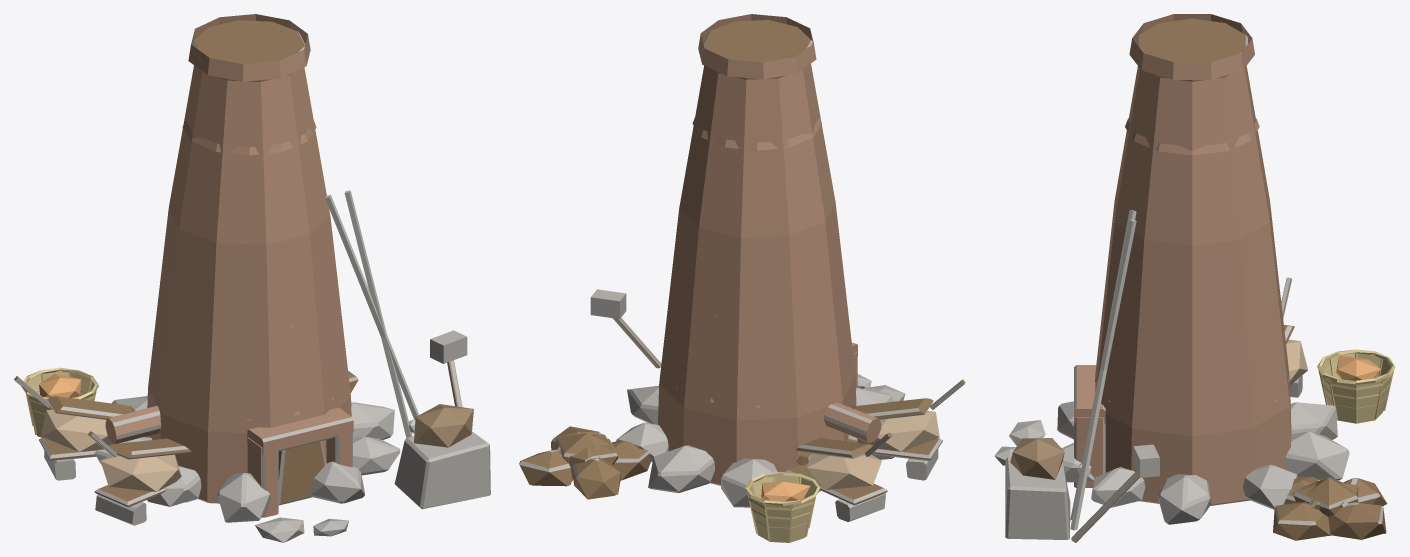
File: asset_bloomery_unlit.glb
The picture shows the model from 3 angles, left to right: view 1: azimuth 30°, elevation 25°; view 2: azimuth 150°, elevation 25°; view 3: azimuth 270°, elevation 25°; orthographic projection. The views are drawn at different scales.
Visible parts, largest first — view 1: asset_bloomery_unlit; view 2: asset_bloomery_unlit; view 3: asset_bloomery_unlit.
Boxes of the visible parts, box(x1,y1,x2,y2) form: asset_bloomery_unlit: box(14, 14, 490, 542); asset_bloomery_unlit: box(519, 14, 965, 542); asset_bloomery_unlit: box(994, 14, 1395, 542).
Size of the model in its own units: 1.94 by 2.07 by 1.76.
